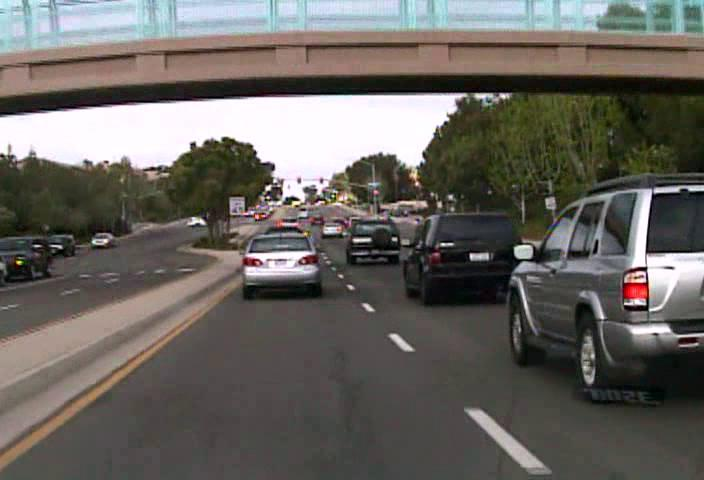speedLimit45: (228, 195, 245, 216)
